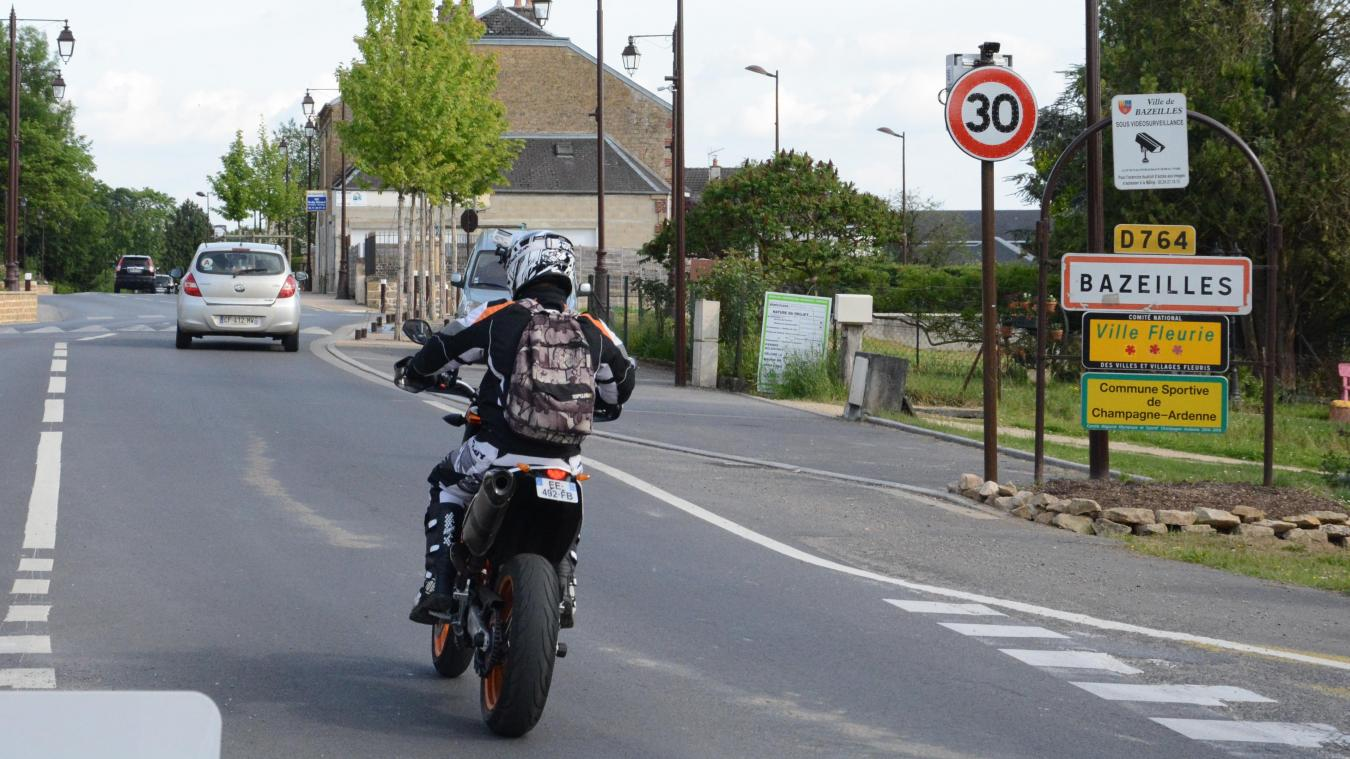Speed_limit_30km: (945, 68, 1038, 163)
car: (173, 239, 308, 360)
